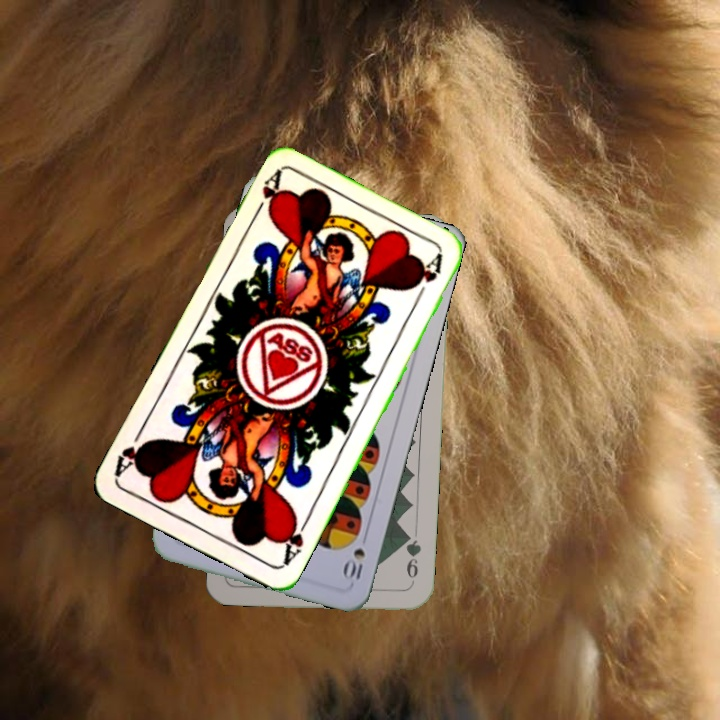G9: (401, 528, 424, 588)
HA: (248, 167, 285, 223), (278, 512, 313, 568)
S10: (339, 528, 371, 583)
